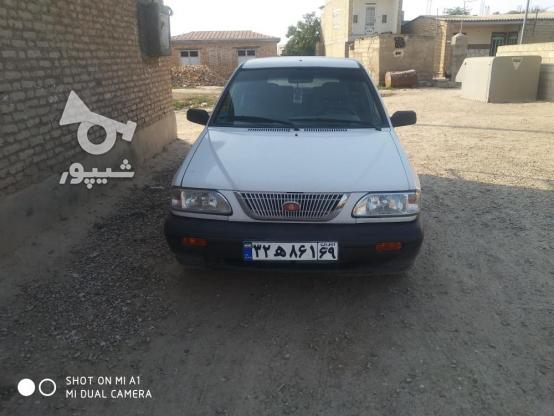car: (243, 239, 342, 262)
